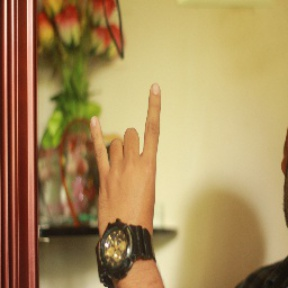V: (84, 81, 174, 234)
